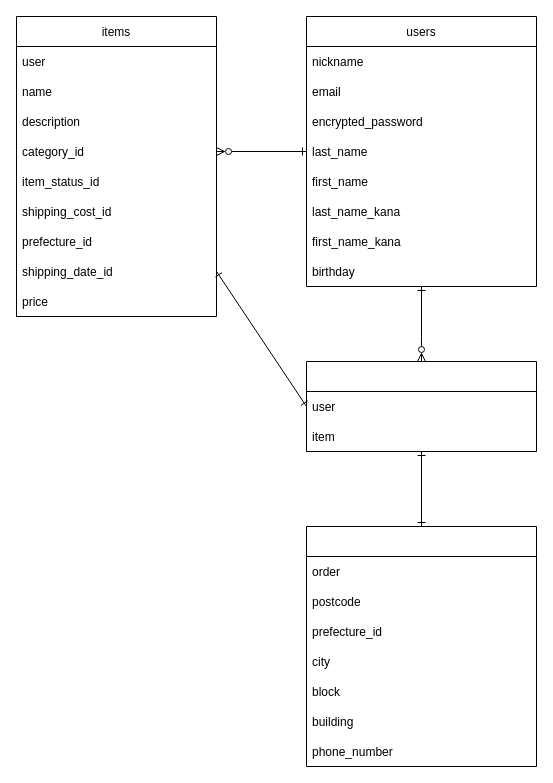
The diagram is 553 pixels wide and 783 high, and some of its shapes have lost their labels. The box of each missing label's shape, as (x1, y1, x2, y2) in pixels:
orders: (306, 360, 536, 452)
payments: (306, 526, 536, 766)
